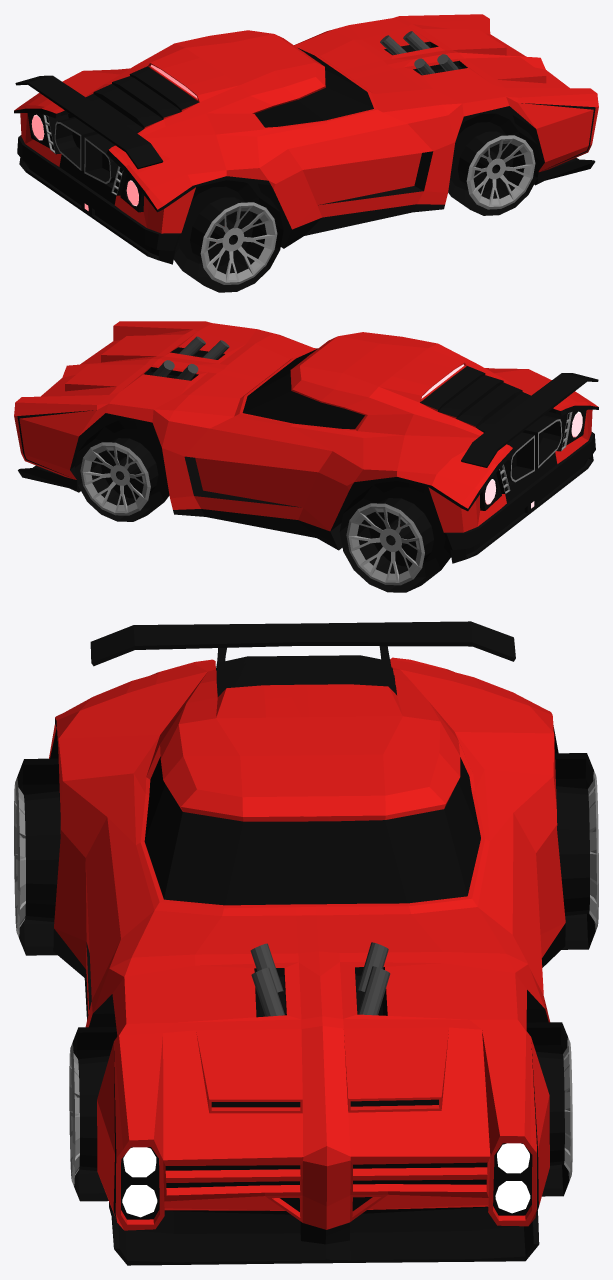
The model's file is car.gltf.
3 views of the same model, one above another, from view 1: azimuth 30°, elevation 25°; view 2: azimuth 150°, elevation 25°; view 3: azimuth 270°, elevation 25° (orthographic). The views are drawn at different scales.
Visible parts, largest first — view 1: Cube_0; view 2: Cube_0; view 3: Cube_0.
Part boxes in pixels (bbox=[...]): Cube_0: bbox=[14, 14, 598, 292]; Cube_0: bbox=[14, 321, 598, 592]; Cube_0: bbox=[14, 621, 598, 1265].
Bounding box in the file's own units: 1.15 × 0.3603 × 0.681.
